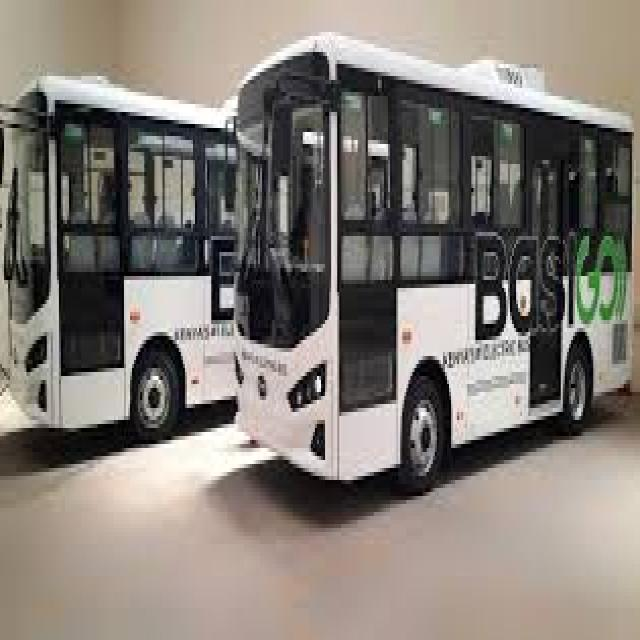bus: (207, 23, 639, 507)
